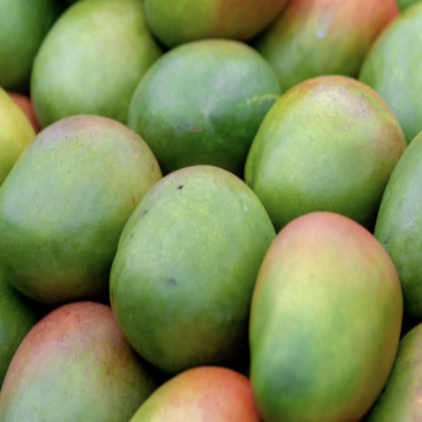mango: (98, 160, 292, 368), (231, 208, 417, 417), (0, 97, 164, 321), (119, 16, 290, 173)
